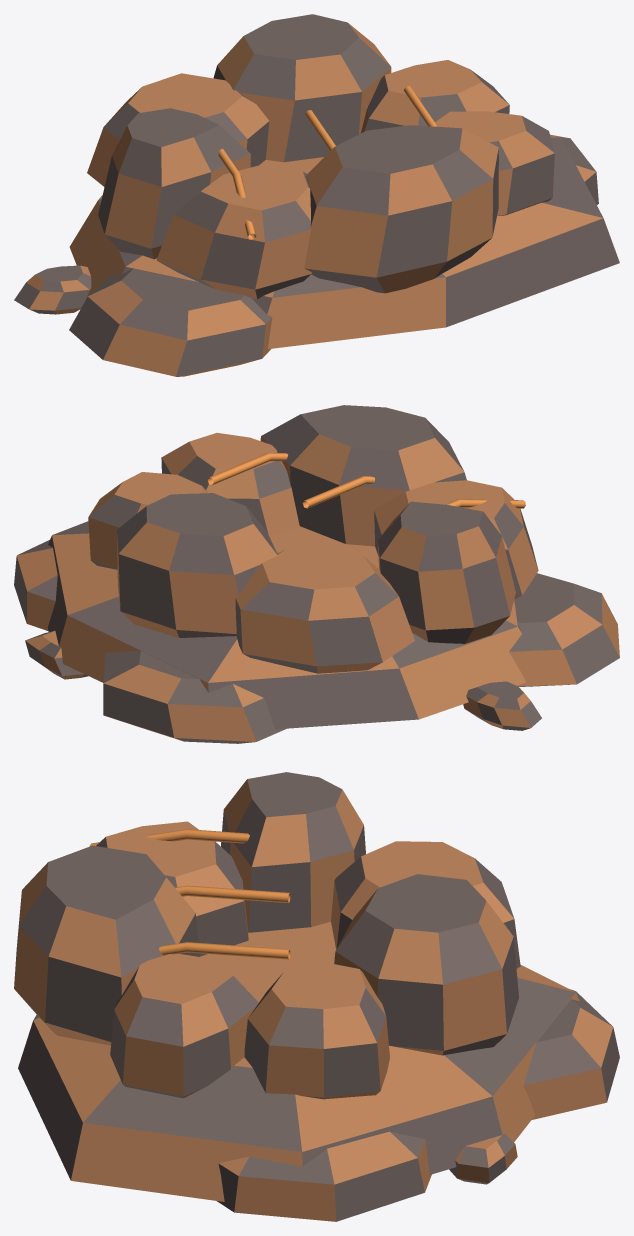
File: BH_ORE_O13_Ferro_das_Cinzas_V01.glb
3 renders of one model, top to bottom at view 1: azimuth 30°, elevation 25°; view 2: azimuth 150°, elevation 25°; view 3: azimuth 270°, elevation 25°, orthographic. The views are drawn at different scales.
Visible parts, largest first — view 1: Bedrock | primary.001, O13 | fractured stone 6.001, O13 | fractured stone 2.001, Bedrock | shoulder 1.001, O13 | fractured stone 5.001, O13 | fractured stone 4.001, O13 | fractured stone 3.001, O13 | fractured stone 1.001, O13 | fractured stone 7.001, Loose chip 2.001, Bedrock | shoulder 2.001, O13 | molten seam 1.001; view 2: Bedrock | primary.001, O13 | fractured stone 2.001, O13 | fractured stone 3.001, O13 | fractured stone 6.001, O13 | fractured stone 4.001, Bedrock | shoulder 3.001, Bedrock | shoulder 1.001, O13 | fractured stone 7.001, O13 | fractured stone 5.001, O13 | fractured stone 1.001, Bedrock | shoulder 2.001, Loose chip 2.001 (+3 smaller); view 3: Bedrock | primary.001, O13 | fractured stone 2.001, O13 | fractured stone 6.001, O13 | fractured stone 4.001, O13 | fractured stone 1.001, O13 | fractured stone 7.001, Bedrock | shoulder 2.001, Bedrock | shoulder 3.001, O13 | fractured stone 5.001, O13 | fractured stone 3.001, Loose chip 1.001, O13 | molten seam 3.001 (+2 smaller).
Part boxes in pixels (x1,y1,x2,y2): Bedrock | primary.001: (69, 135, 619, 349); O13 | fractured stone 6.001: (304, 125, 498, 293); O13 | fractured stone 2.001: (213, 14, 391, 162); Bedrock | shoulder 1.001: (69, 268, 272, 376); O13 | fractured stone 5.001: (156, 164, 311, 299); O13 | fractured stone 4.001: (98, 108, 250, 259); O13 | fractured stone 3.001: (87, 73, 269, 186); O13 | fractured stone 1.001: (360, 60, 509, 133); O13 | fractured stone 7.001: (435, 111, 554, 215); Loose chip 2.001: (14, 265, 91, 314); Bedrock | shoulder 2.001: (550, 134, 598, 204); O13 | molten seam 1.001: (218, 148, 256, 239); Bedrock | primary.001: (47, 521, 525, 729); O13 | fractured stone 2.001: (117, 493, 277, 637); O13 | fractured stone 3.001: (235, 548, 414, 673); O13 | fractured stone 6.001: (260, 405, 466, 546); O13 | fractured stone 4.001: (377, 501, 515, 643); Bedrock | shoulder 3.001: (103, 651, 286, 743); Bedrock | shoulder 1.001: (509, 573, 619, 686); O13 | fractured stone 7.001: (161, 432, 299, 536); O13 | fractured stone 5.001: (374, 480, 538, 598); O13 | fractured stone 1.001: (88, 472, 208, 569); Bedrock | shoulder 2.001: (14, 540, 57, 631); Loose chip 2.001: (463, 681, 541, 730); Bedrock | primary.001: (18, 921, 579, 1201); O13 | fractured stone 2.001: (334, 874, 518, 1055); O13 | fractured stone 6.001: (14, 845, 199, 1045); O13 | fractured stone 4.001: (221, 772, 365, 932); O13 | fractured stone 1.001: (244, 961, 389, 1099); O13 | fractured stone 7.001: (110, 954, 258, 1098); Bedrock | shoulder 2.001: (217, 1131, 431, 1221); Bedrock | shoulder 3.001: (523, 989, 619, 1119); O13 | fractured stone 5.001: (96, 821, 248, 956); O13 | fractured stone 3.001: (331, 841, 520, 968); Loose chip 1.001: (449, 1133, 517, 1184); O13 | molten seam 3.001: (159, 942, 290, 959).
Bounding box in the file's own units: 2.56 × 0.79 × 2.09.
